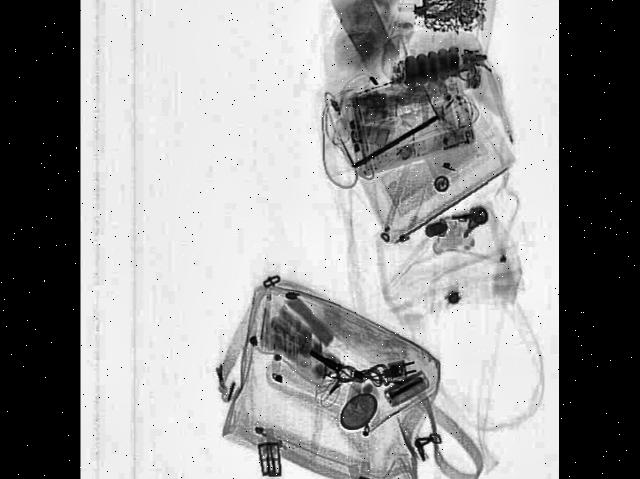Pliers: (423, 0, 496, 19)
